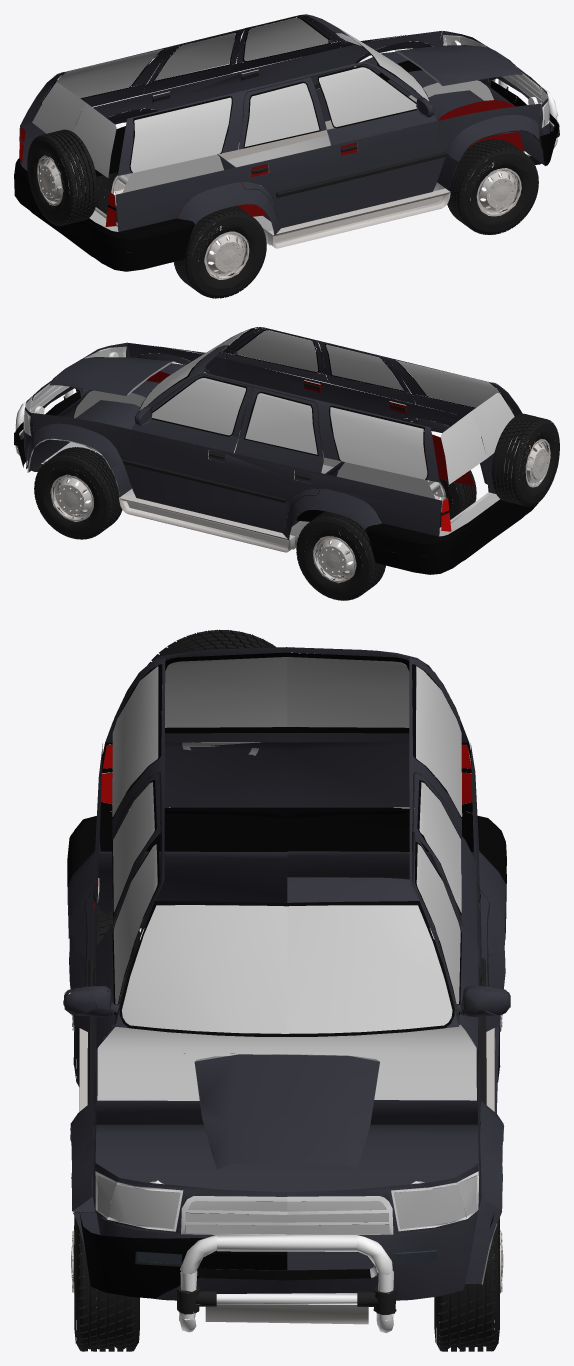
The model's file is v_policehilux.glb.
The picture shows the model from 3 angles, top to bottom: view 1: azimuth 30°, elevation 25°; view 2: azimuth 150°, elevation 25°; view 3: azimuth 270°, elevation 25°; orthographic projection. The views are drawn at different scales.
Parts seen in each view (by area): view 1: v_policehilux; view 2: v_policehilux; view 3: v_policehilux.
Boxes of the visible parts, x1,y1,x2,y2 form: v_policehilux: (14, 14, 559, 298); v_policehilux: (14, 327, 559, 600); v_policehilux: (63, 629, 510, 1351).
Bounding box in the file's own units: 5.33 × 1.92 × 2.13.
1 material, 1 textured.
